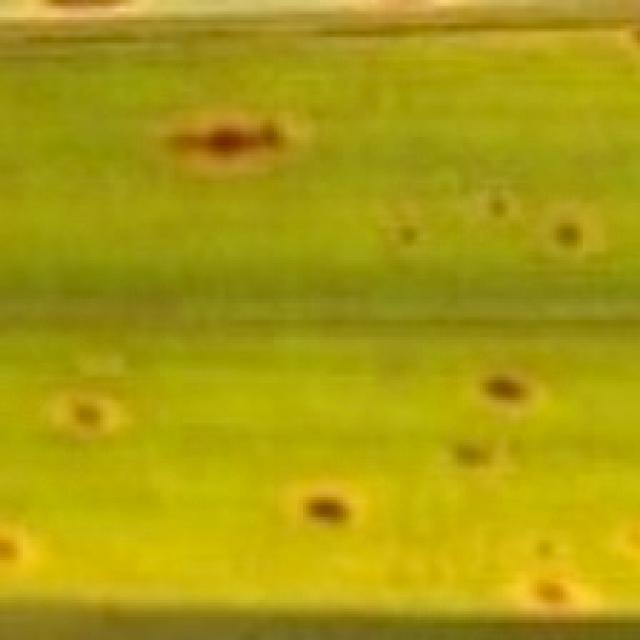Unhealthy: (137, 106, 316, 182), (272, 478, 373, 538), (456, 364, 543, 419), (509, 565, 599, 618), (422, 432, 515, 481), (45, 390, 129, 442), (542, 200, 608, 260), (509, 512, 574, 570), (460, 184, 524, 240), (0, 515, 40, 572), (389, 209, 433, 256)
